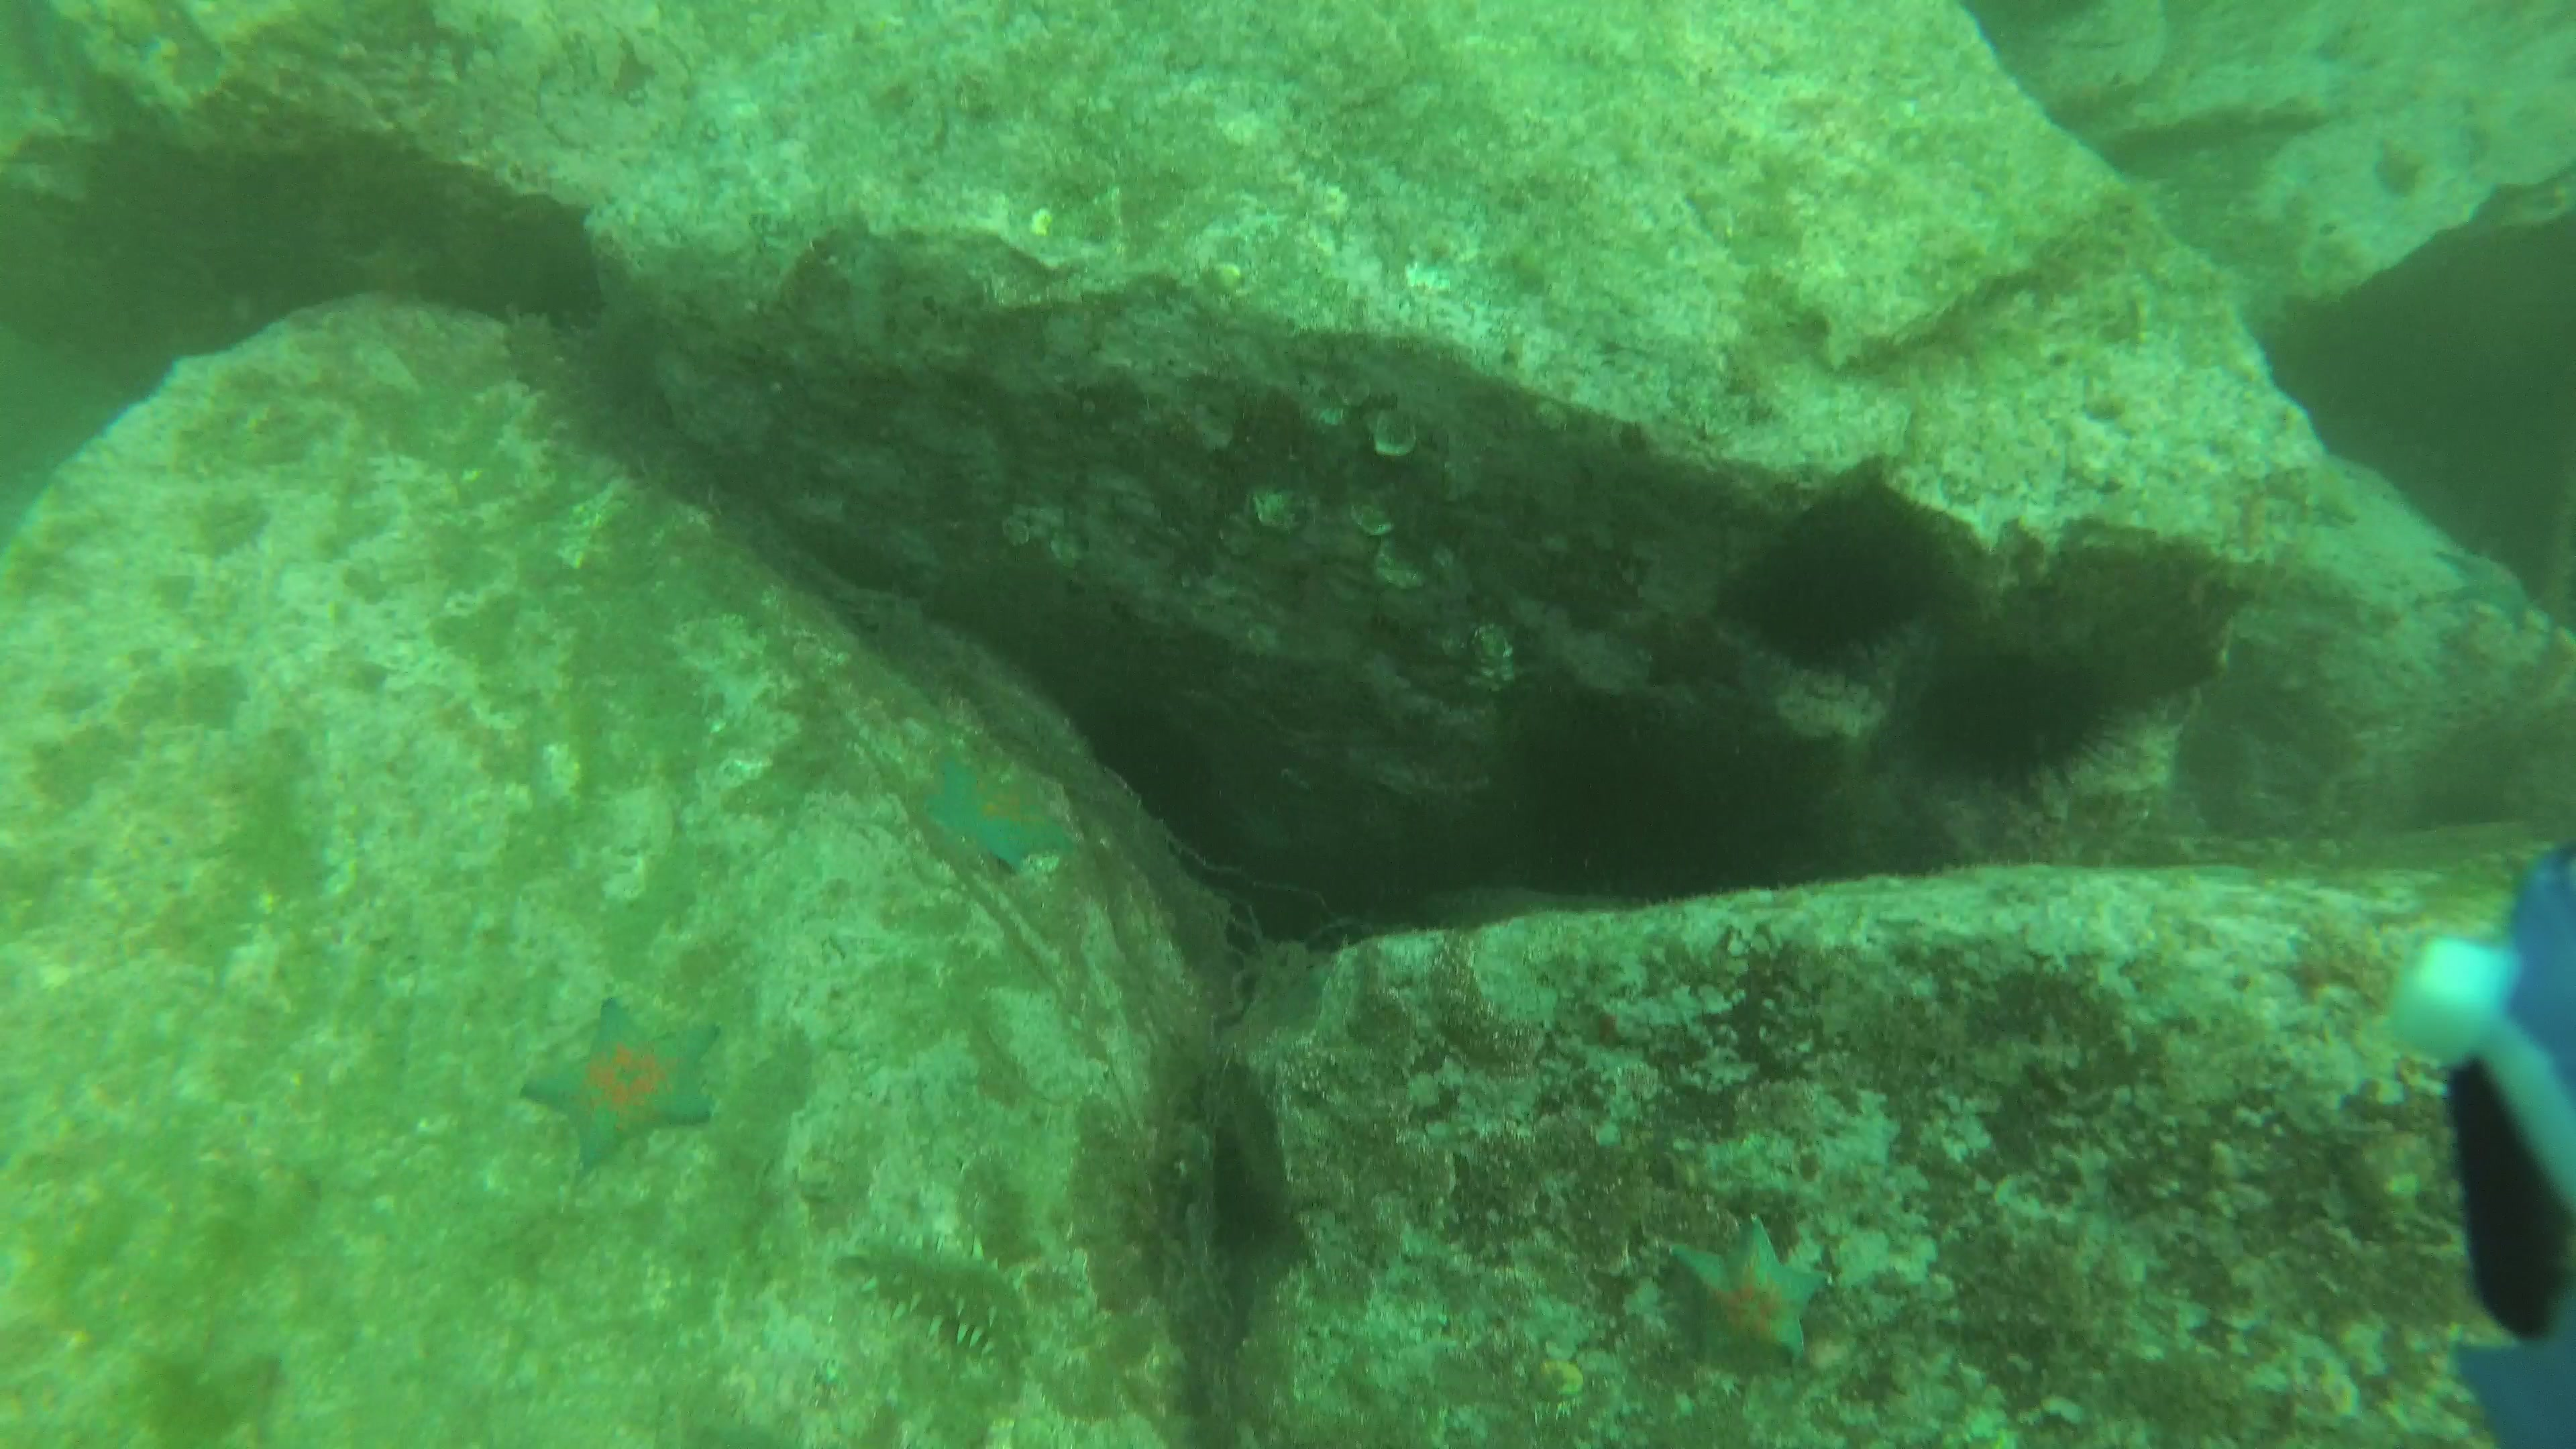echinus: (1870, 625, 2132, 814), (1723, 478, 1951, 685)
holothurian: (840, 1215, 1047, 1371)
starfish: (510, 991, 732, 1164), (1654, 1210, 1829, 1366), (915, 741, 1085, 883)
